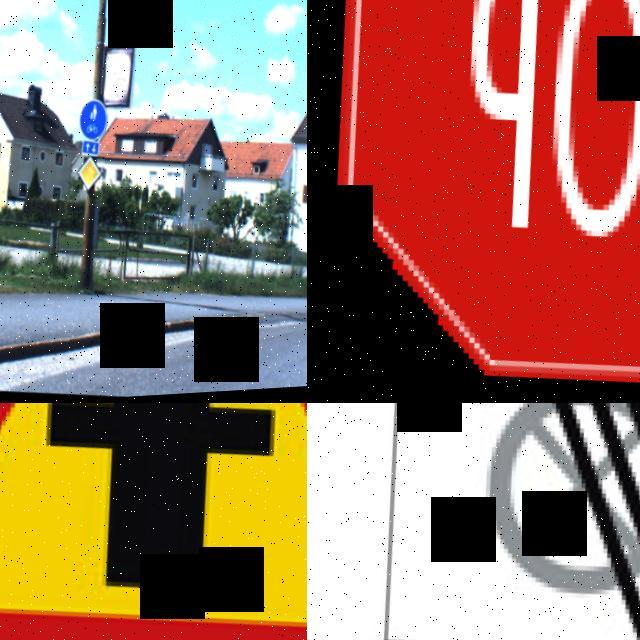115: (344, 403, 640, 640)
166: (0, 403, 307, 640)
57: (67, 158, 101, 198), (73, 140, 97, 162)
91: (70, 97, 108, 146)
Stop: (307, 0, 640, 403)
